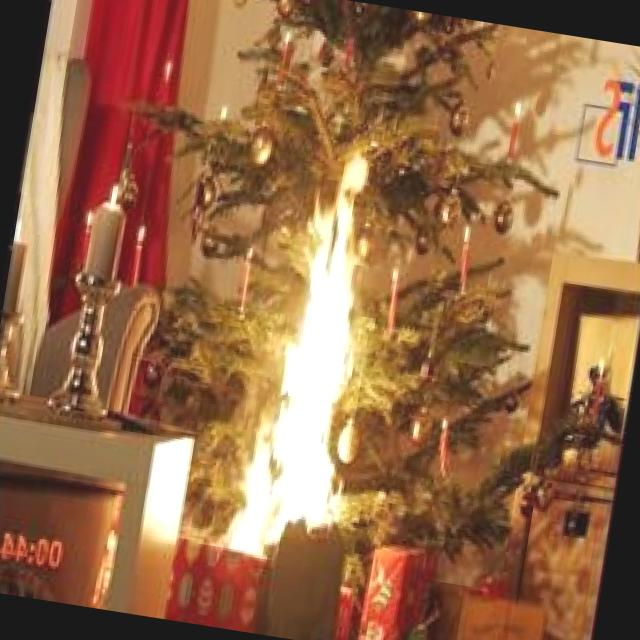fire: (165, 118, 452, 621)
